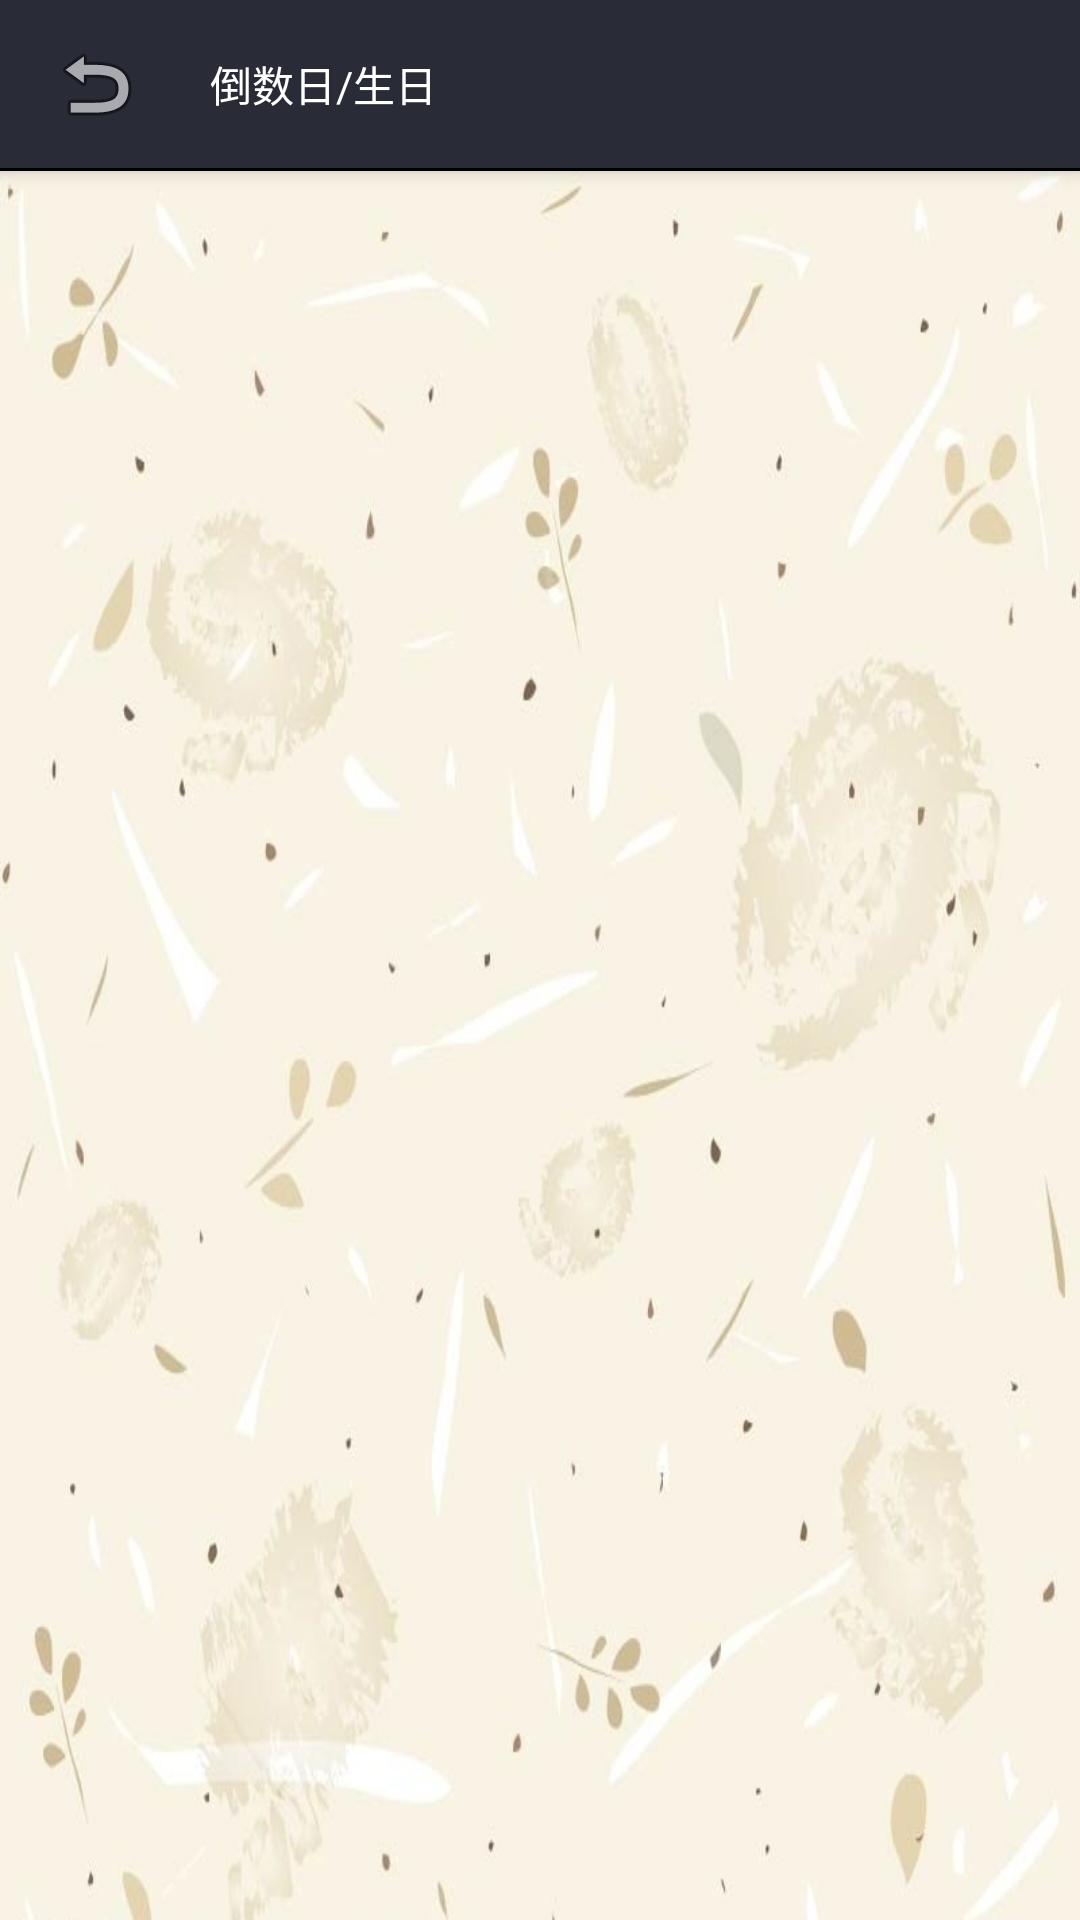

Screen size 1080×1920. Icon name, then its center in pixels as (x=x, y=y):
revert: (x=97, y=84)
